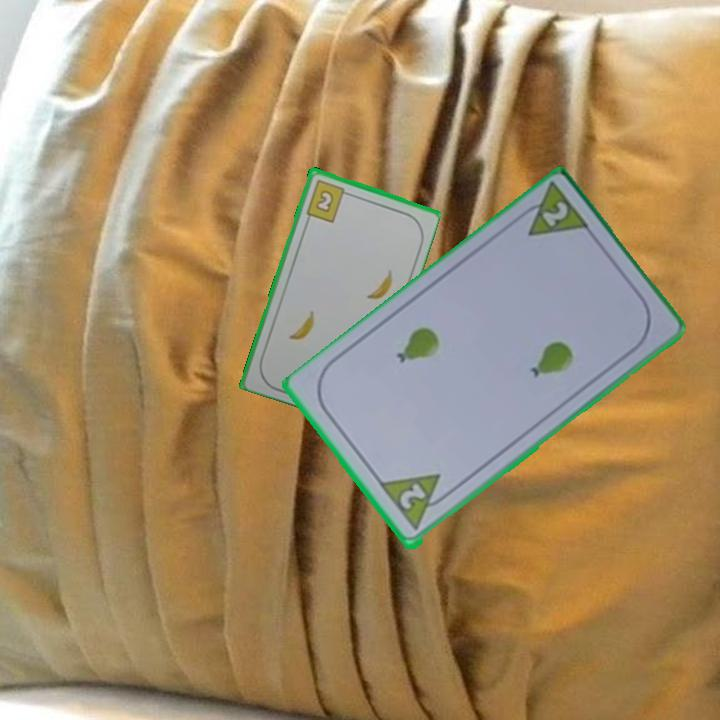2b: (302, 176, 353, 225)
2p: (377, 470, 455, 535), (538, 198, 571, 231)
